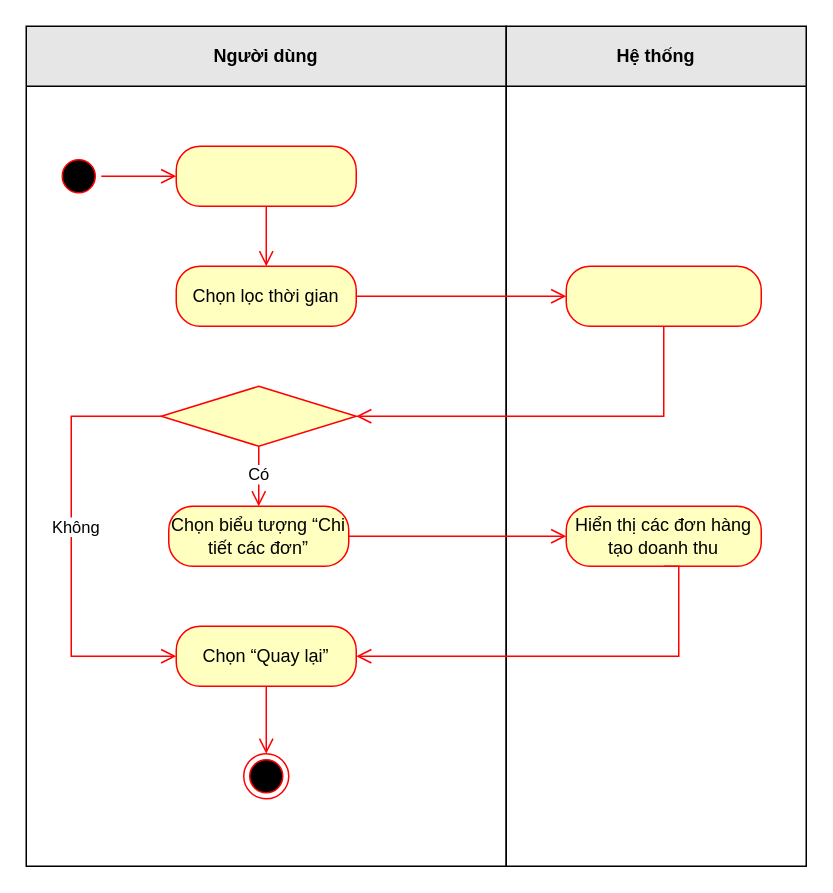
Image size: 833x893. Some labels were removed from this diagram. The shapes that lost their labels are listed below. From the top down, each one's box as (x1, y1, x2, y2) in pixels, then its label:
(175, 145, 356, 206): Chọn “Doanh thu”
(565, 265, 761, 326): Hiển thị biểu đồ doanh thu, giá vốn, lợi nhuận
(160, 385, 356, 446): Muốn xem chi tiết?
